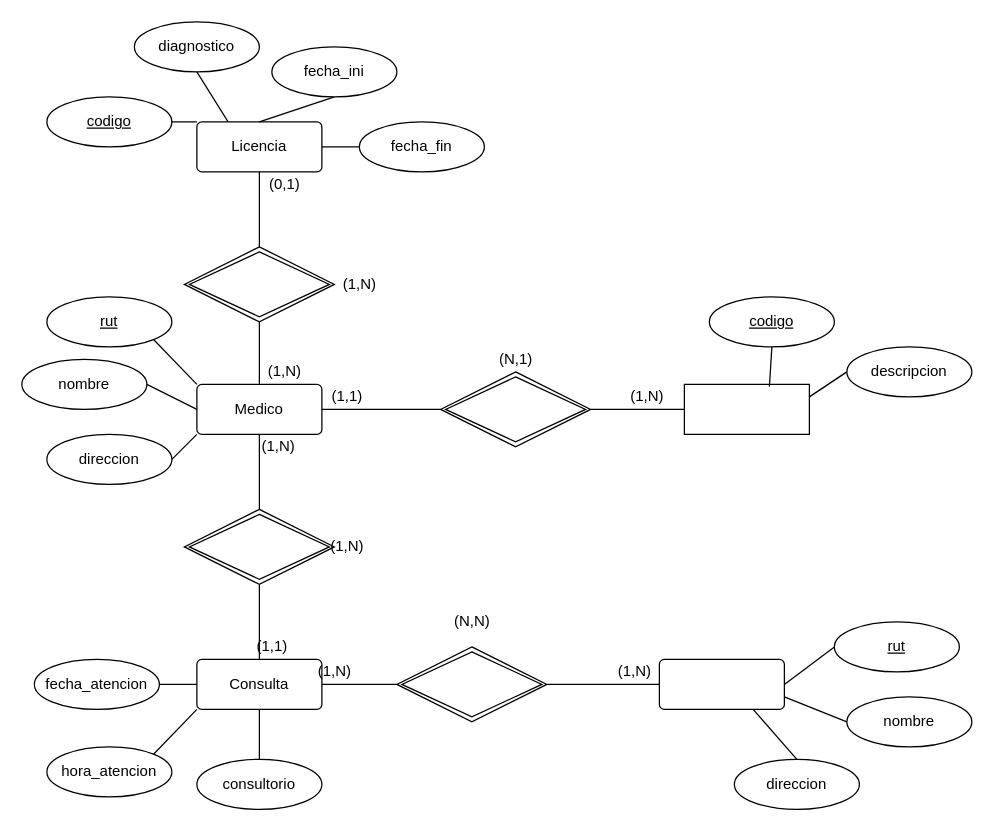
The diagram is 994 pixels wide and 831 high, and some of its shapes have lost their labels. Here are the shapes that lost their labels. From the top down, the box of each, then its label:
(183, 246, 334, 322): entrega
(439, 371, 591, 447): tiene
(683, 383, 809, 434): Especialidad
(183, 508, 334, 584): realiza
(396, 646, 547, 722): agenda
(658, 658, 784, 709): Paciente
